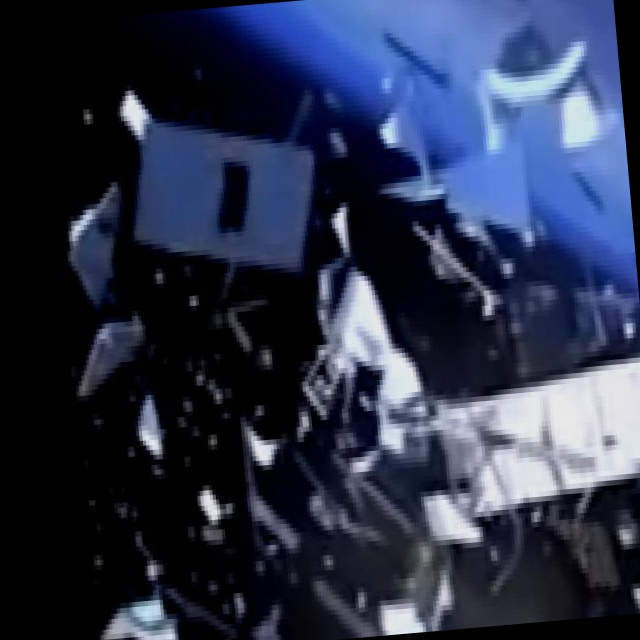large_debris: (276, 406, 475, 638), (364, 37, 541, 279), (409, 362, 640, 532), (127, 106, 317, 295), (303, 190, 434, 441), (456, 22, 615, 176), (470, 258, 639, 378), (59, 152, 135, 316), (238, 412, 291, 563), (543, 509, 631, 597), (67, 315, 146, 399), (414, 226, 492, 307), (157, 574, 245, 640), (103, 581, 185, 640), (230, 299, 281, 380), (131, 388, 173, 476), (196, 473, 233, 548)
